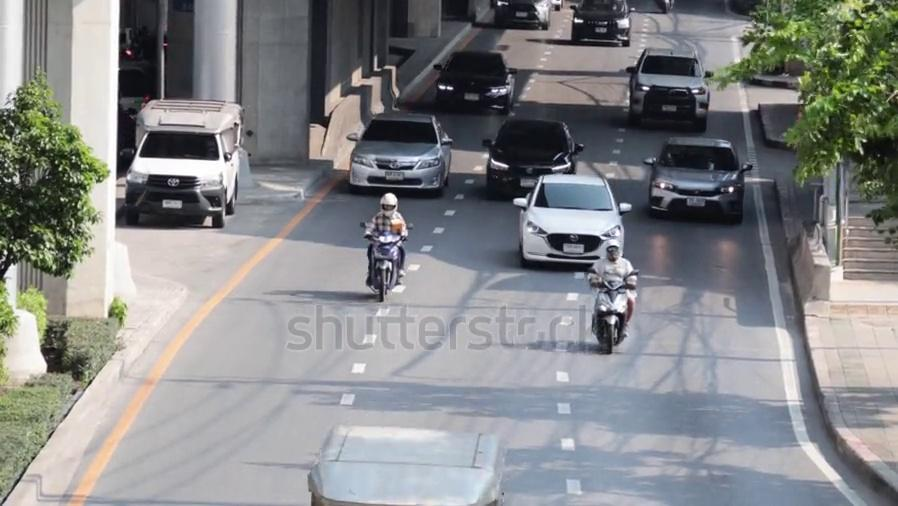rider: (586, 239, 639, 356), (362, 191, 409, 287)
with_helmate: (378, 193, 399, 217), (605, 241, 619, 262)
